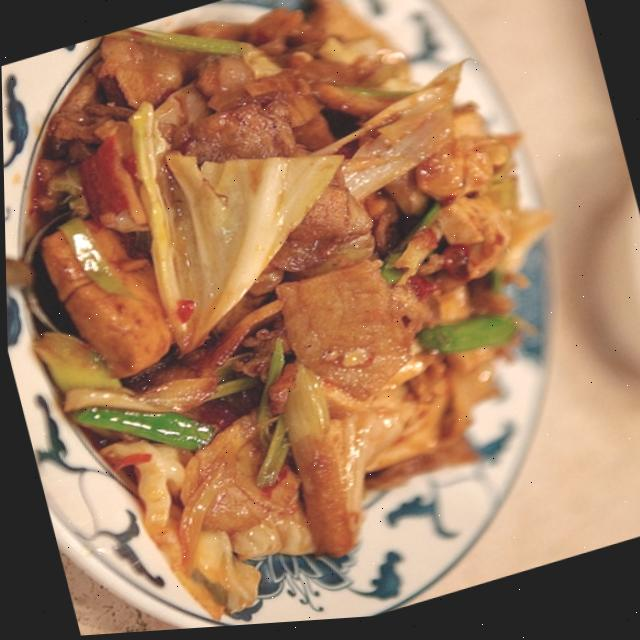猪肉菜式: (0, 0, 635, 640)
